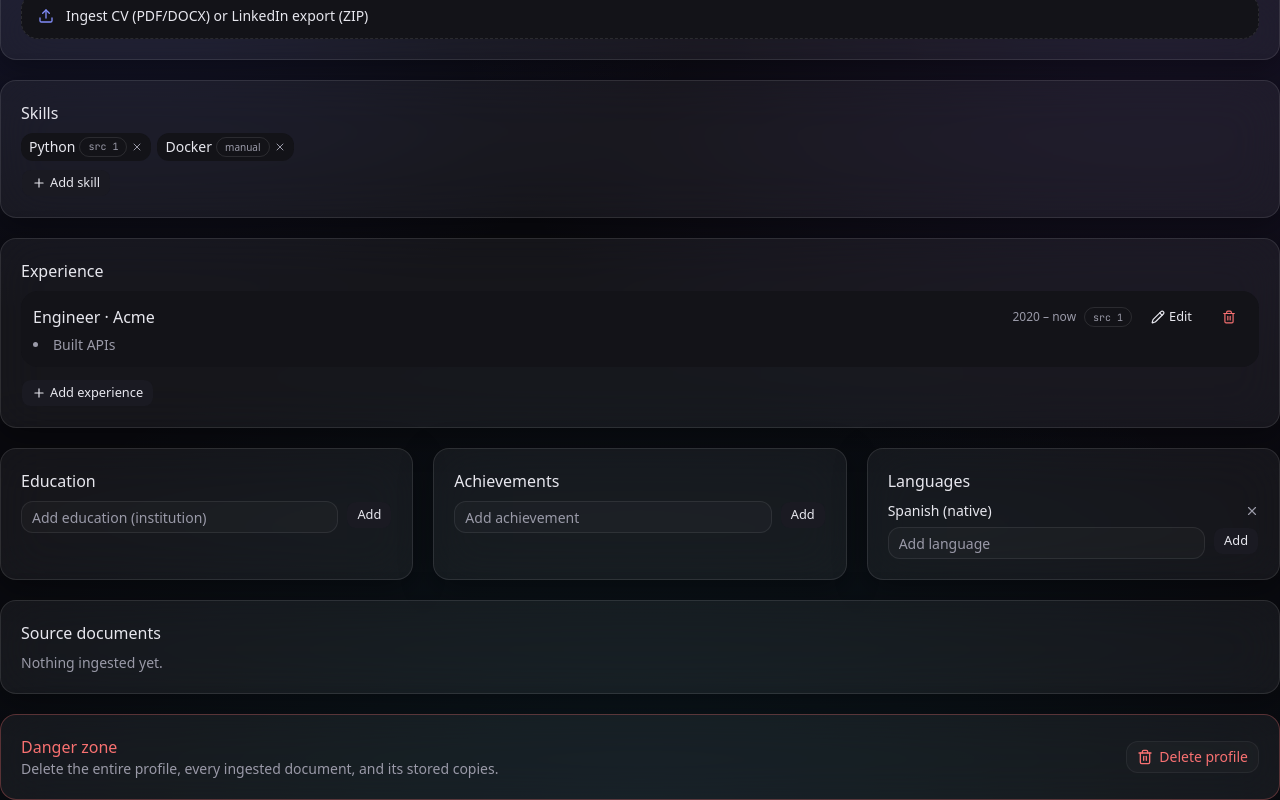
delete profile asks for confirmation, then clears the page
(page scrolled)
Click the button "Delete profile": (1193, 757) [1126,741,1259,773]
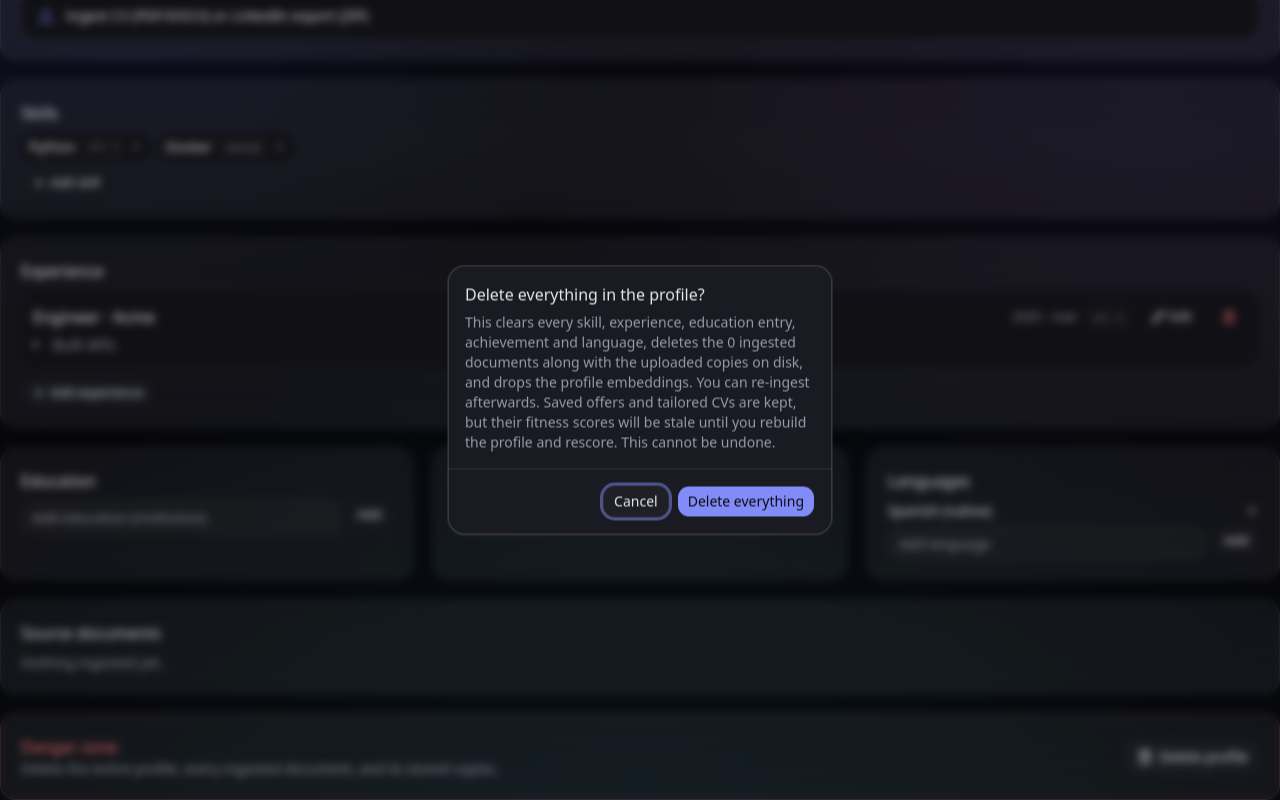
Click the button "Delete everything": (746, 502) [677,486,815,518]
(page scrolled)
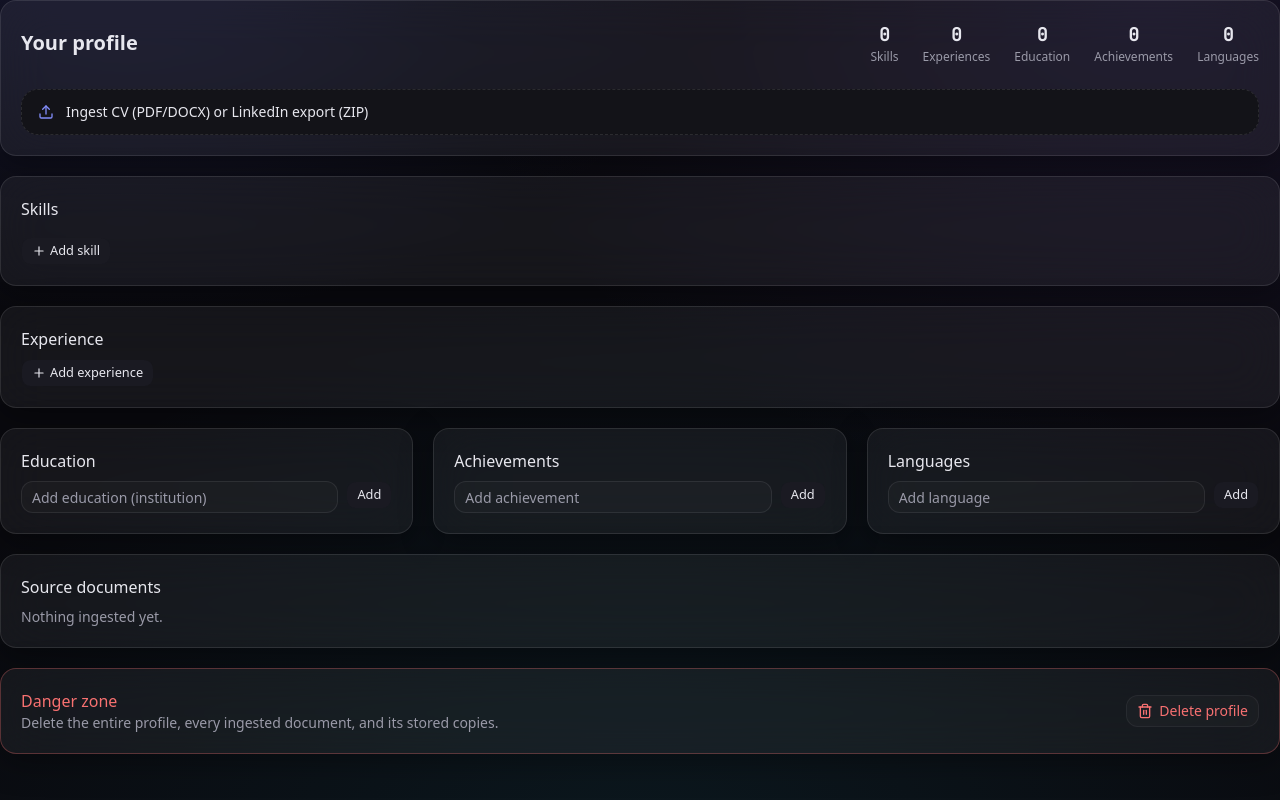
Result: the text "Python" is gone
